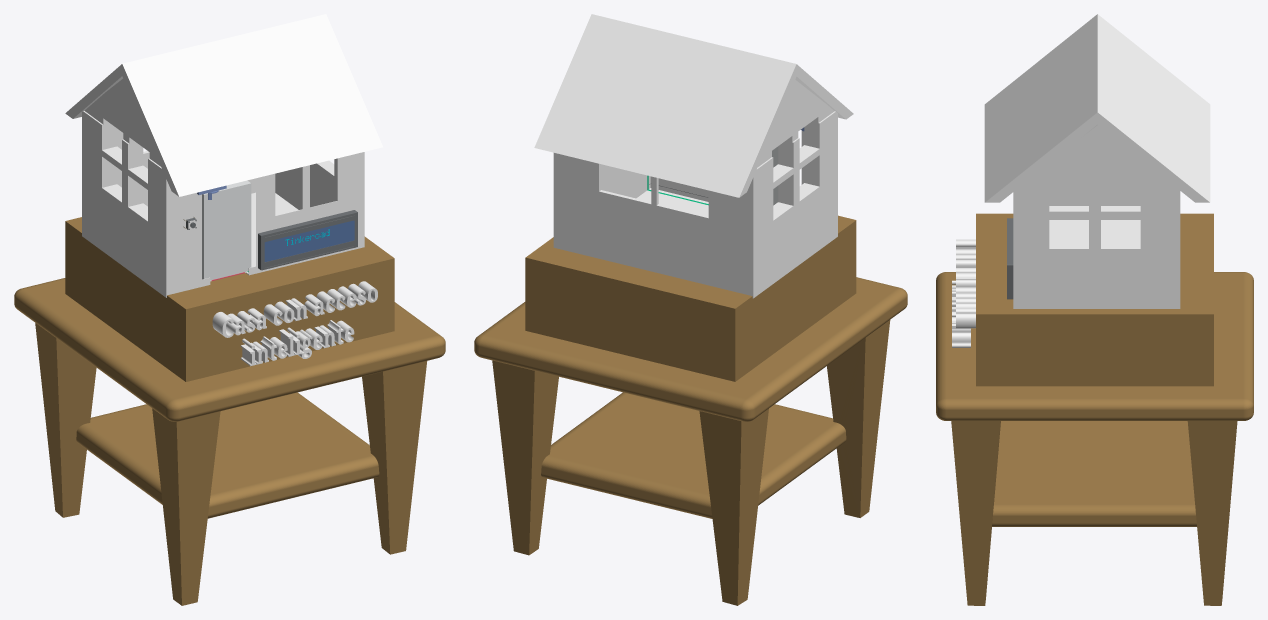
File: casa1.glb
3 views of the same model, side by side, from view 1: azimuth 30°, elevation 25°; view 2: azimuth 150°, elevation 25°; view 3: azimuth 270°, elevation 25° (orthographic).
Parts seen in each view (by area): view 1: Mesh_Mesh_head_geo.001_lambert2SG.001, Mesh_Mesh_head_geo.001_lambert2SG.002; view 2: Mesh_Mesh_head_geo.001_lambert2SG.001, Mesh_Mesh_head_geo.001_lambert2SG.002; view 3: Mesh_Mesh_head_geo.001_lambert2SG.001, Mesh_Mesh_head_geo.001_lambert2SG.002.
Boxes of the visible parts, x1,y1,x2,y2 form: Mesh_Mesh_head_geo.001_lambert2SG.001: [14, 217, 445, 605]; Mesh_Mesh_head_geo.001_lambert2SG.002: [65, 14, 382, 297]; Mesh_Mesh_head_geo.001_lambert2SG.001: [474, 215, 907, 605]; Mesh_Mesh_head_geo.001_lambert2SG.002: [534, 14, 853, 298]; Mesh_Mesh_head_geo.001_lambert2SG.001: [936, 213, 1253, 605]; Mesh_Mesh_head_geo.001_lambert2SG.002: [984, 14, 1210, 308].
Bounding box in the file's own units: 4.01 × 6.78 × 4.01.
